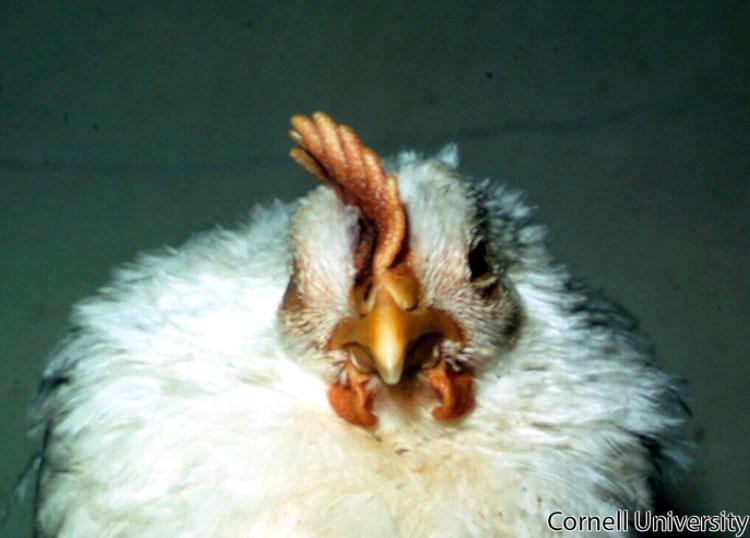AbNormal: (40, 111, 711, 538)
